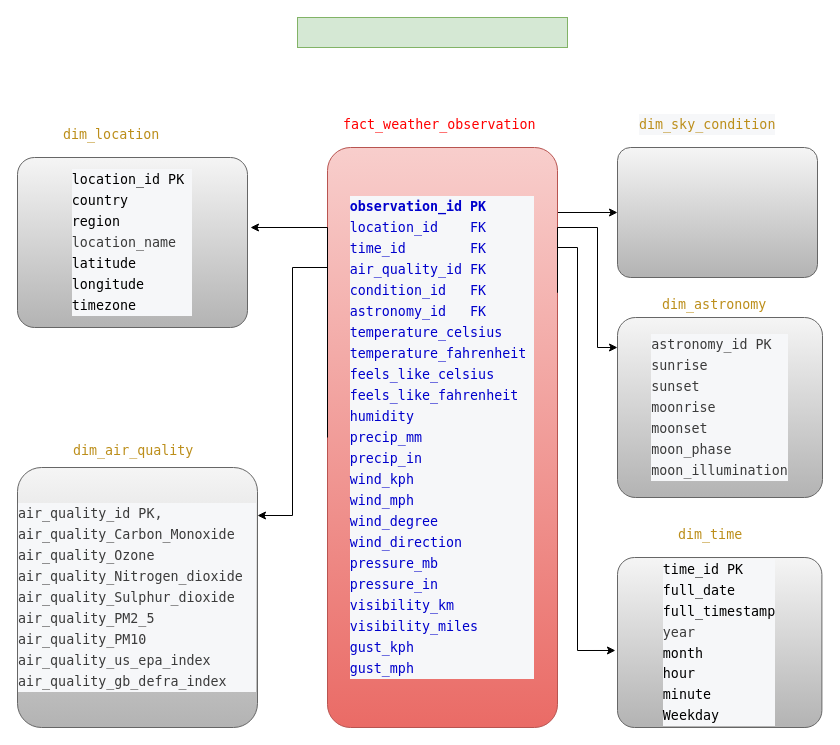
This 840x745 diagram has some shape labels left out. The shapes that lost their labels are listed below. From the top down, each one's centre as x and y in pixels, then its label:
point (432, 32): Star Schema for Climate Data
point (717, 212): condition_id PK condition_text cloud uv_index
